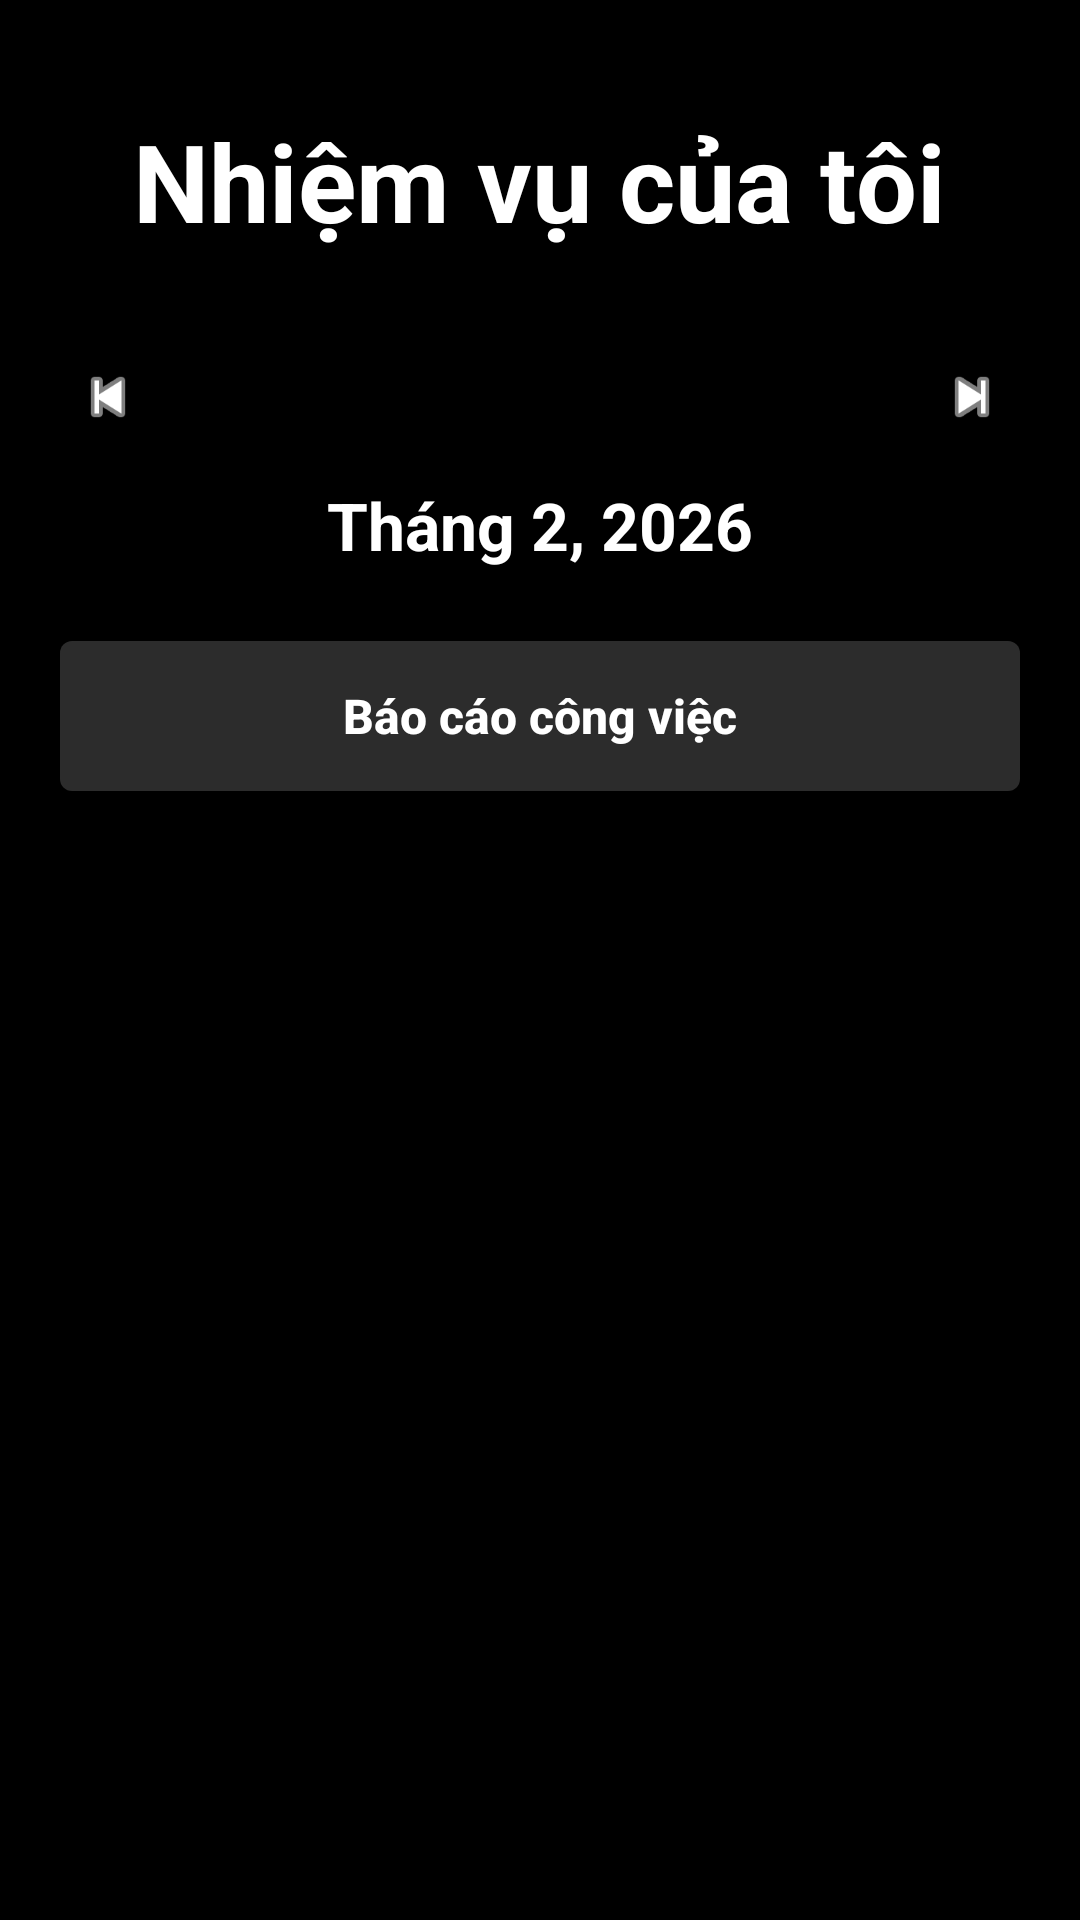

Icon bounding boxes for this 1080px x 1920px phone screenshot, format bbox(x1, y1, x2, y2):
next: bbox(955, 377, 989, 417)
previous: bbox(91, 377, 125, 417)
